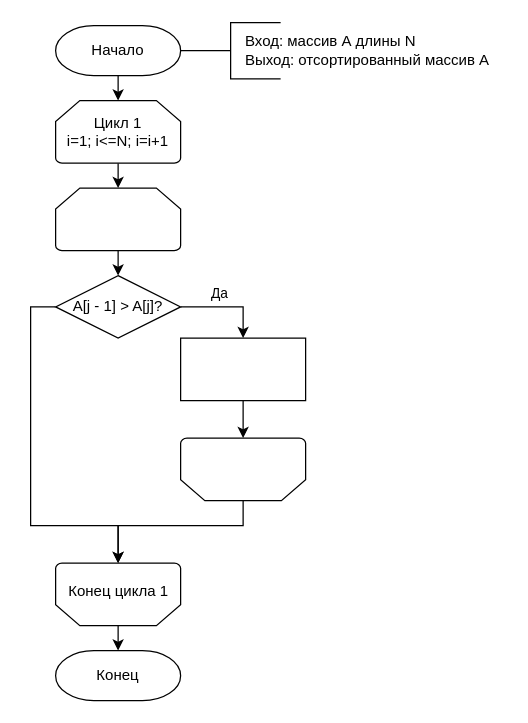
The diagram is 528 pixels wide and 723 high, and some of its shapes have lost their labels. Here are the shapes that lost their labels. From the top down, the box of each, then its label:
(54, 187, 181, 251): Цикл 2 j = i; i > 1; j = j - 1
(179, 337, 306, 401): t = A[j] A[j] = A[j - 1] A[j - 1] = t
(179, 437, 306, 501): Конец цикла 2
